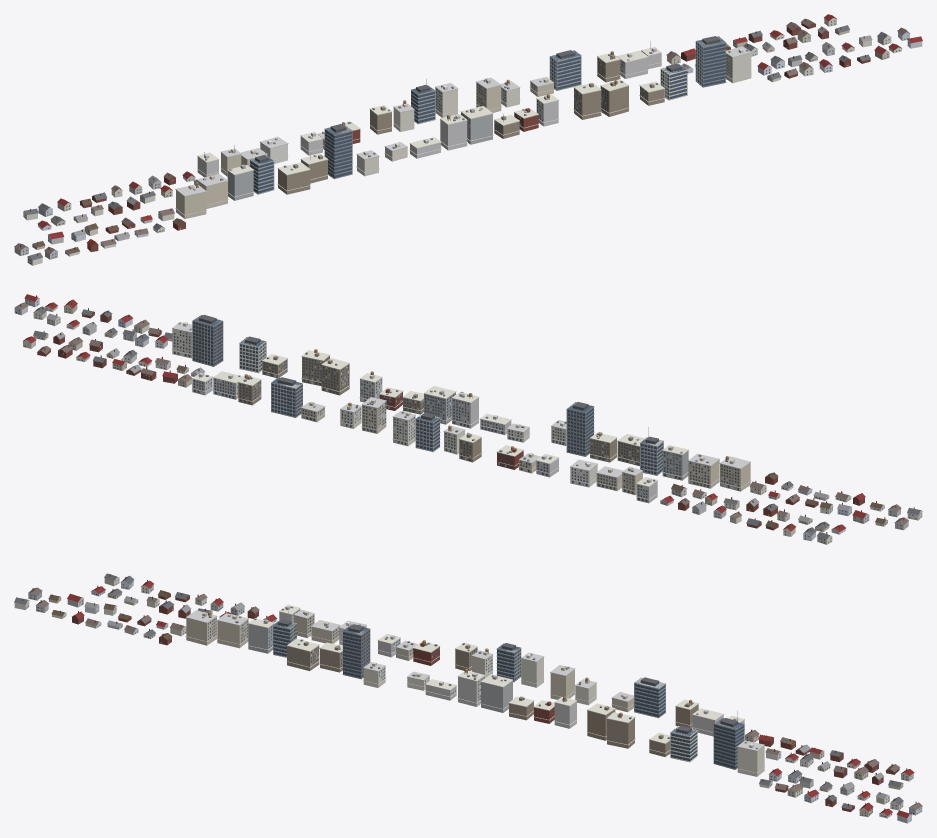
Rendered from WardTownMid.obj.
3 views of the same model, one above another, from view 1: azimuth 30°, elevation 25°; view 2: azimuth 150°, elevation 25°; view 3: azimuth 330°, elevation 25° (orthographic).
Parts seen in each view (by area): view 1: WardTownMid; view 2: WardTownMid; view 3: WardTownMid.
Boxes of the visible parts, x1,y1,x2,y2 form: WardTownMid: (14, 14, 922, 265); WardTownMid: (14, 294, 922, 544); WardTownMid: (14, 573, 922, 823).
Bounding box in the file's own units: 939 × 46.7 × 107.
1 material, 1 textured.
